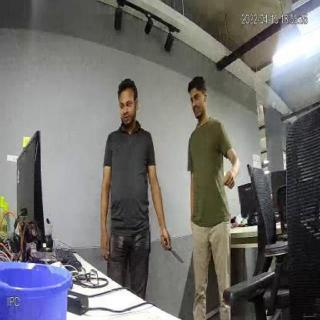knife: (164, 240, 186, 268)
